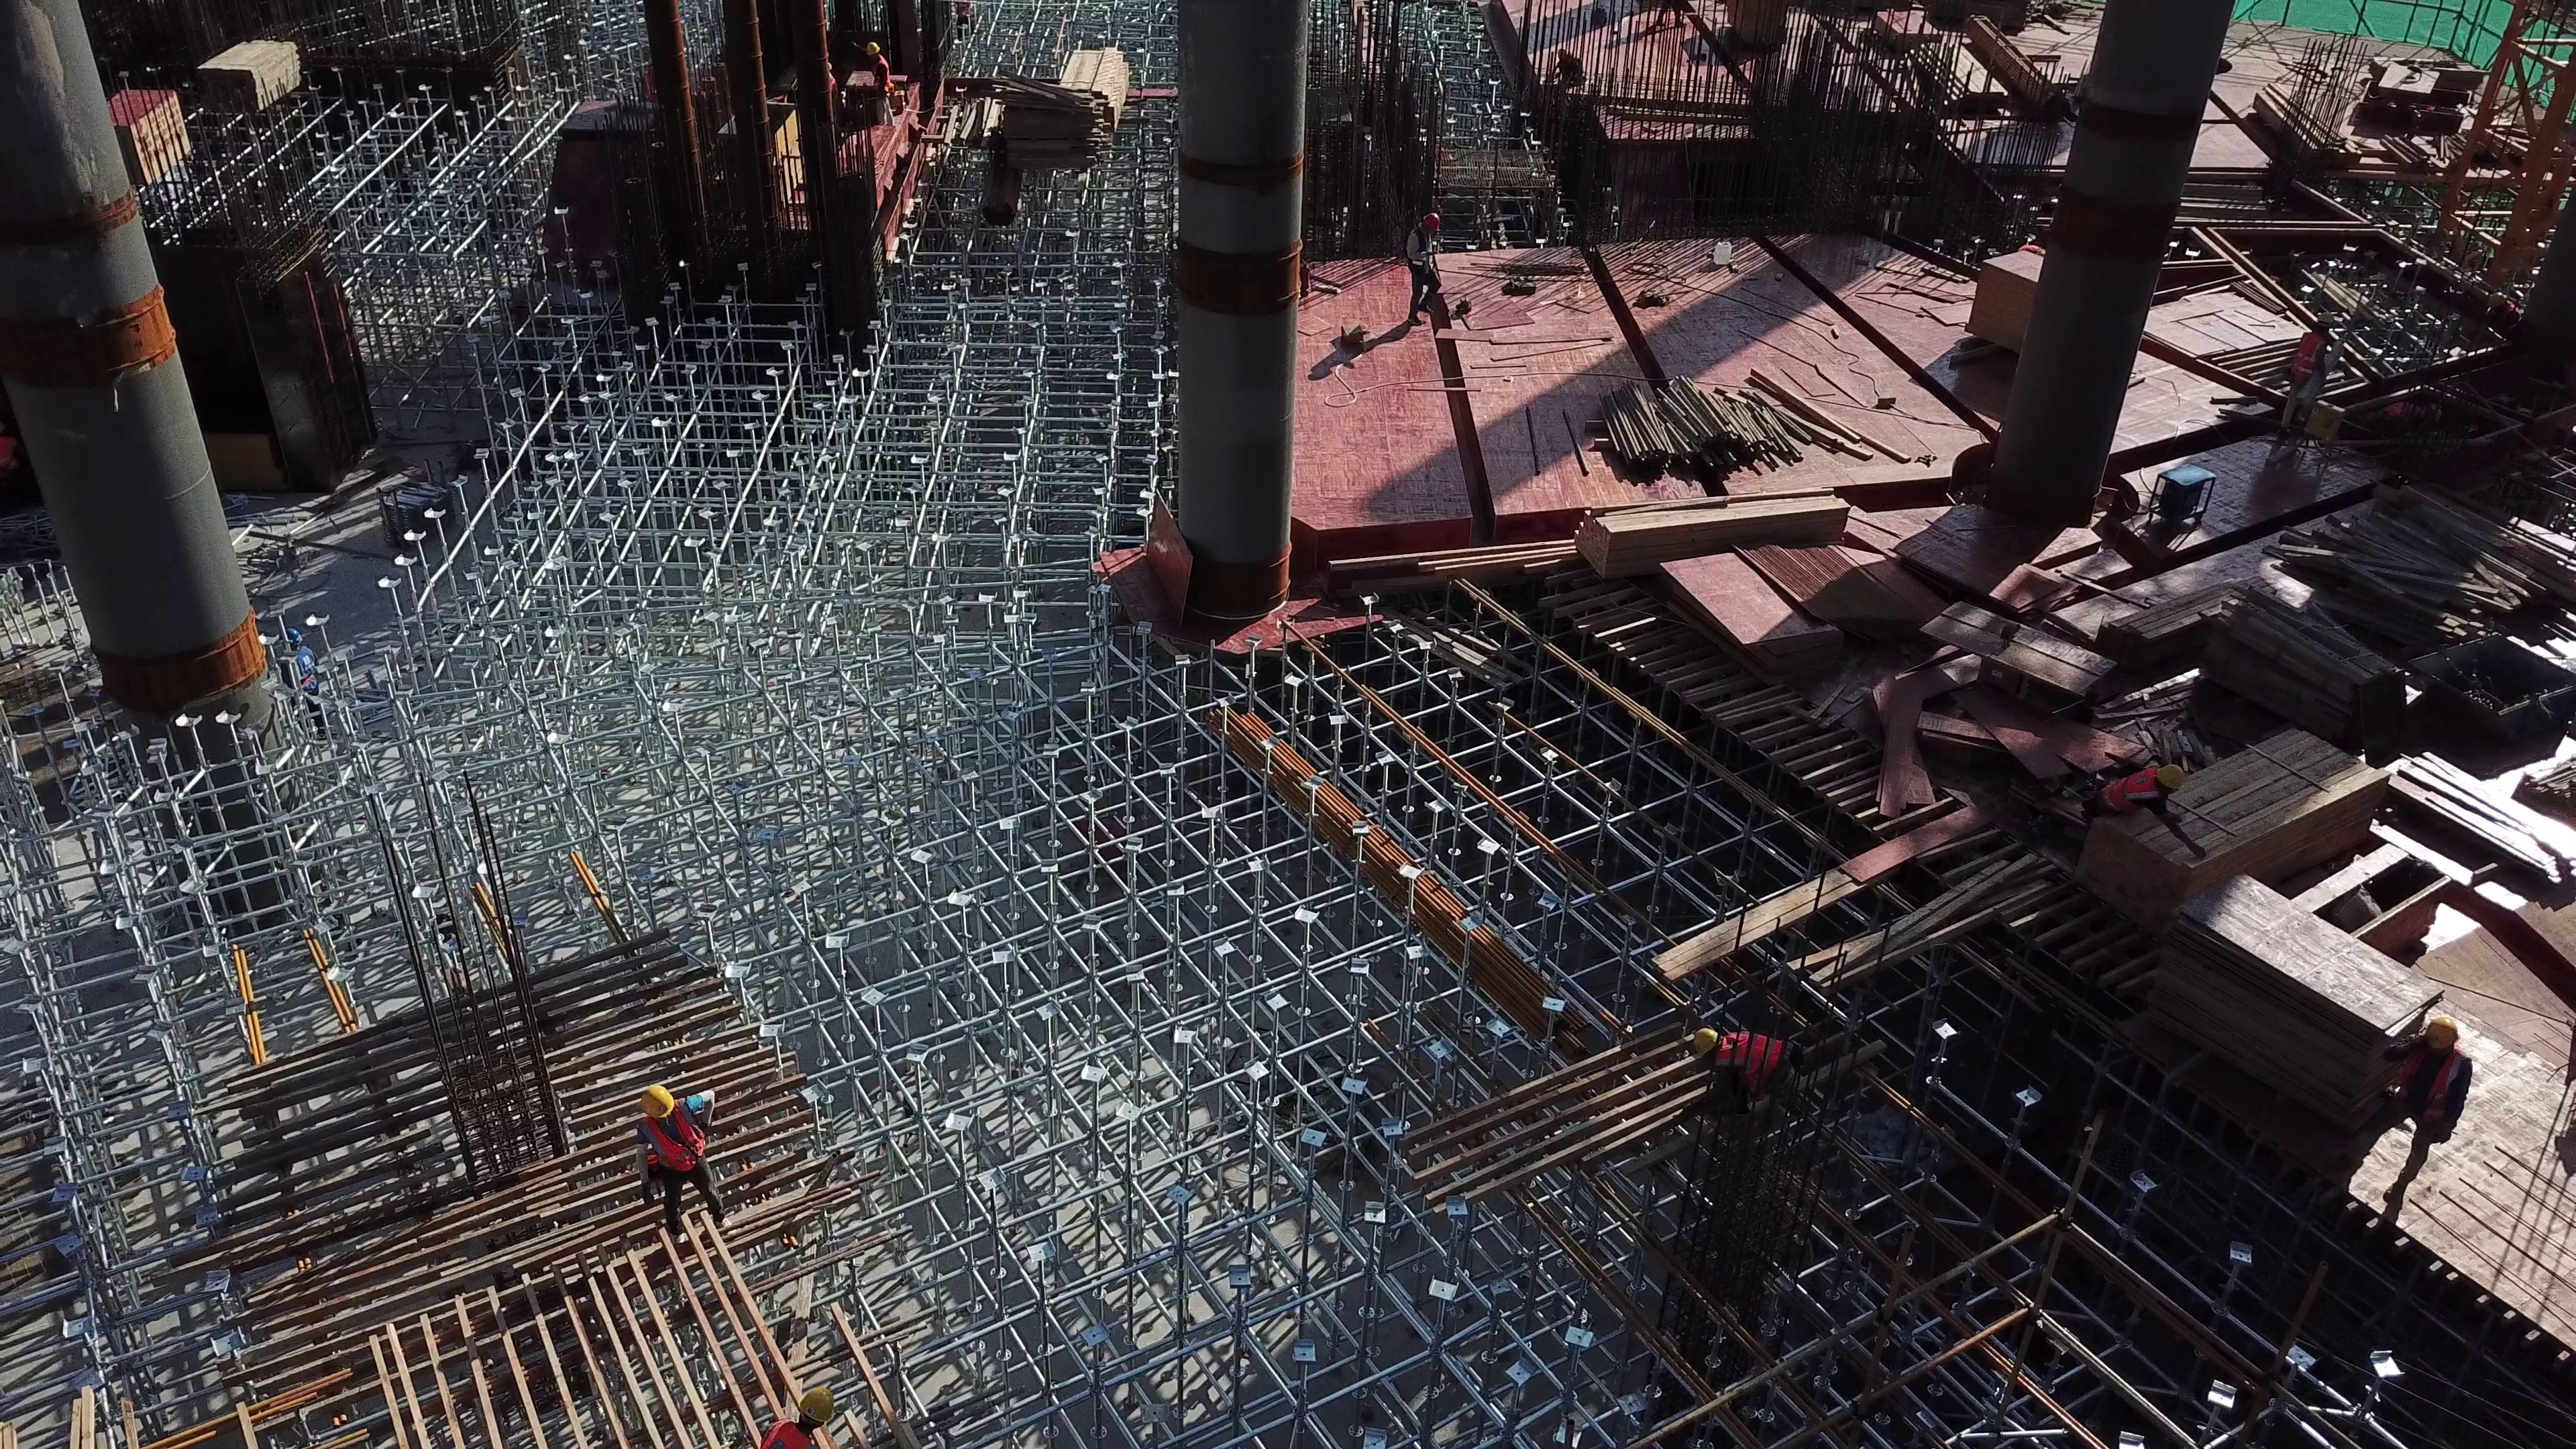helmet: (799, 1389, 835, 1426), (2422, 1016, 2461, 1050), (640, 1085, 673, 1119), (1692, 1028, 1719, 1058), (2154, 765, 2186, 790), (1424, 213, 1440, 231), (2317, 312, 2334, 325)
person: (2323, 1016, 2474, 1203), (630, 1081, 731, 1234), (2079, 764, 2213, 862), (1690, 1027, 1806, 1120), (2277, 311, 2334, 441), (762, 1387, 843, 1449), (1404, 212, 1442, 331), (865, 38, 897, 127)
vest: (2405, 1046, 2465, 1129), (643, 1099, 702, 1172), (2100, 762, 2159, 810), (761, 1419, 816, 1449), (2293, 334, 2324, 380)
